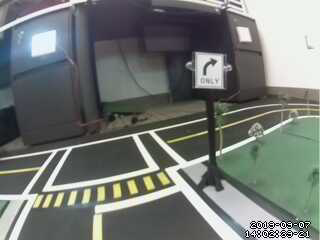Right_only_sign: (192, 50, 227, 90)
